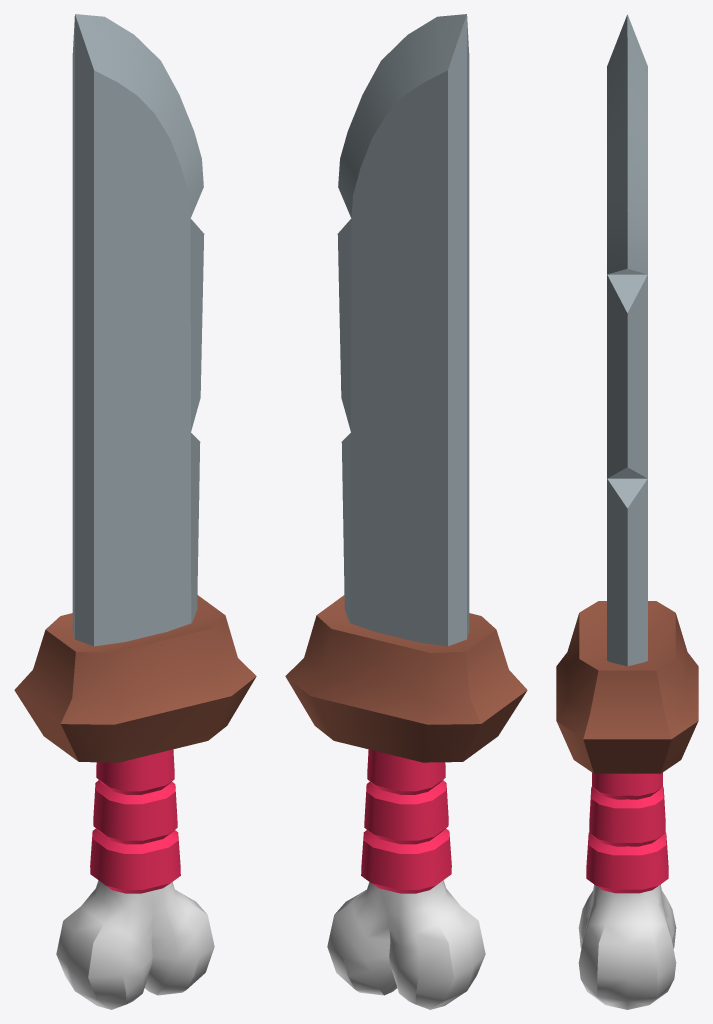
Rendered from orc_sword.gltf.glb.
The picture shows the model from 3 angles, left to right: view 1: azimuth 30°, elevation 25°; view 2: azimuth 150°, elevation 25°; view 3: azimuth 270°, elevation 25°; orthographic projection. The views are drawn at different scales.
Visible parts, largest first — view 1: orc_sword; view 2: orc_sword; view 3: orc_sword.
Boxes of the visible parts, <box> form: orc_sword: <box>14,14,256,1009</box>; orc_sword: <box>285,14,527,1009</box>; orc_sword: <box>556,14,698,1009</box>.
Size of the model in its own units: 0.3386 by 1.65 by 0.2233.
